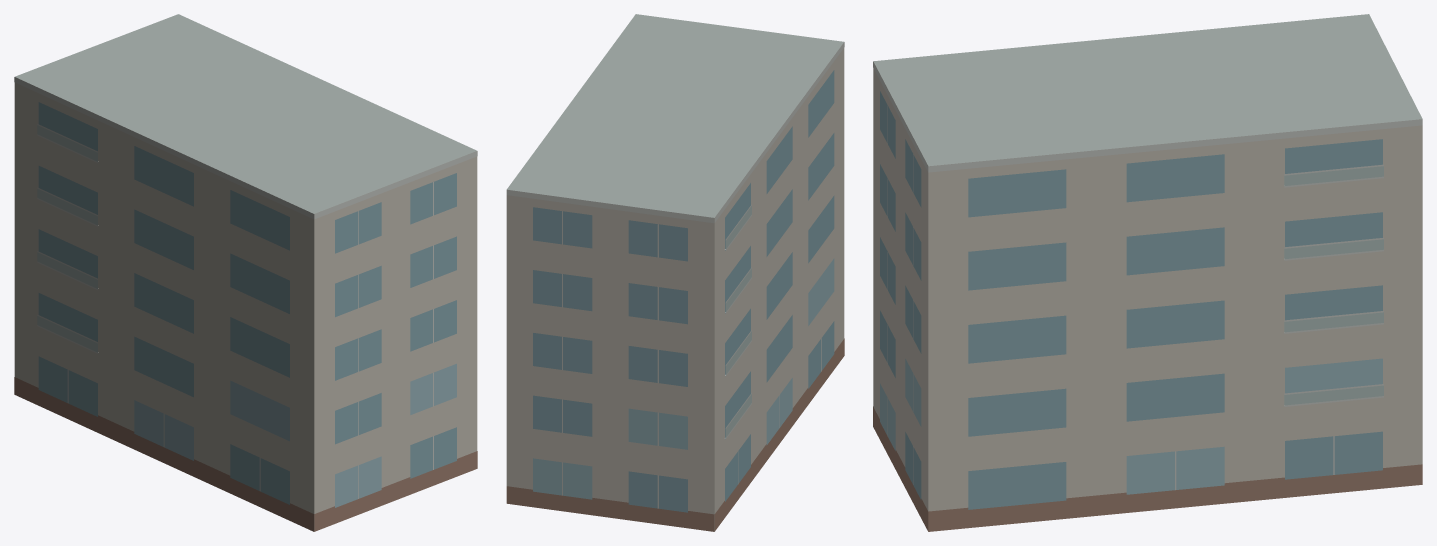
The model's file is survey-upis-32493044.glb.
3 renders of one model, left to right at view 1: azimuth 30°, elevation 25°; view 2: azimuth 150°, elevation 25°; view 3: azimuth 270°, elevation 25°, orthographic. The views are drawn at different scales.
Parts seen in each view (by area): view 1: survey-upis-32493044.tmp; view 2: survey-upis-32493044.tmp; view 3: survey-upis-32493044.tmp.
Part boxes in pixels (box(x1,y1,x2,y2)): survey-upis-32493044.tmp: box(14, 14, 477, 531); survey-upis-32493044.tmp: box(506, 14, 844, 531); survey-upis-32493044.tmp: box(873, 14, 1422, 531).
Size of the model in its own units: 12.69 by 14.2 by 19.35.
